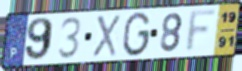3: (57, 16, 83, 60)
8: (159, 11, 183, 54)
9: (25, 16, 57, 63)
F: (183, 7, 221, 55)
G: (120, 11, 152, 59)
X: (91, 14, 122, 59)
